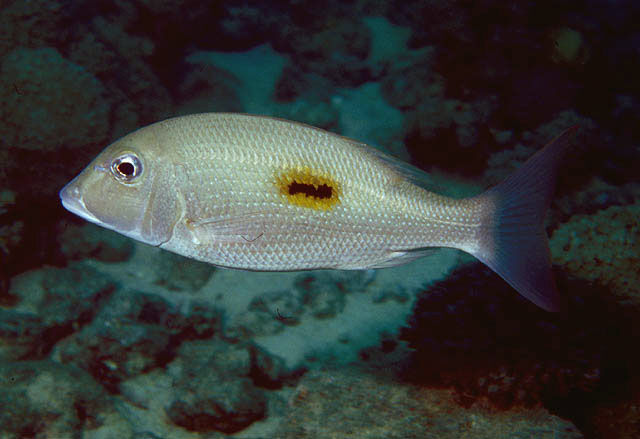fish: (59, 111, 576, 313)
